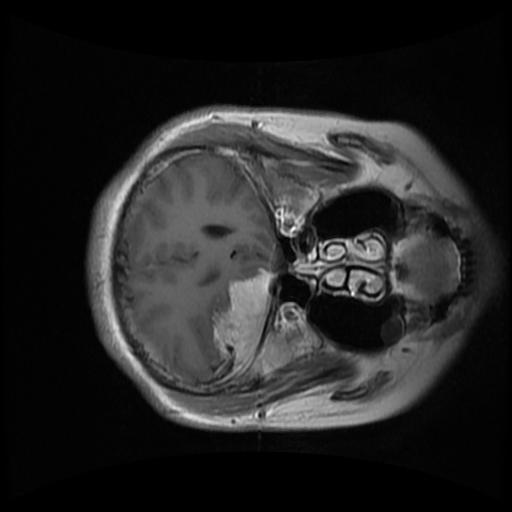meningioma: (211, 268, 273, 381)
